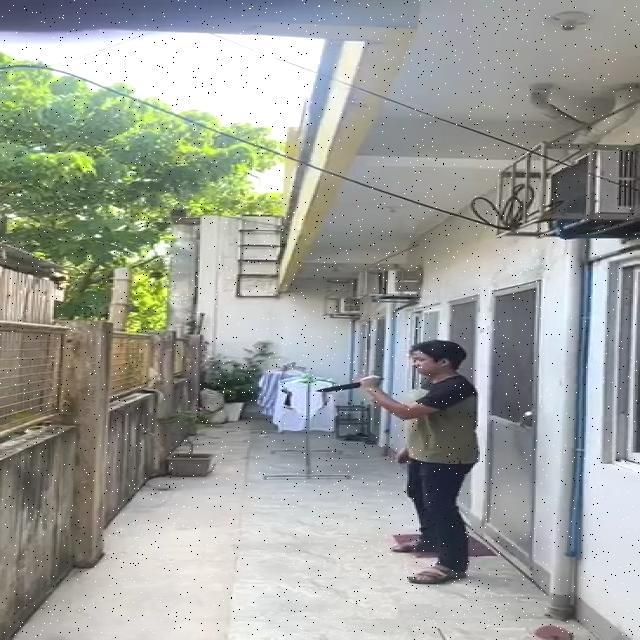knife: (318, 375, 380, 393)
non-violence: (314, 340, 479, 585)
